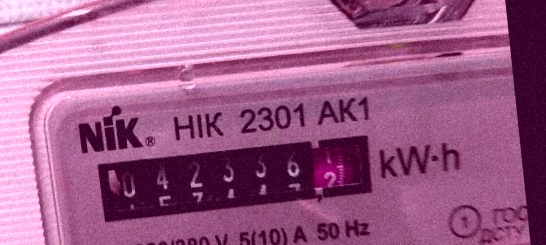0: (118, 169, 137, 199)
1: (319, 143, 334, 166)
2: (185, 158, 204, 189), (320, 168, 338, 188)
3: (249, 148, 268, 180), (217, 154, 235, 183)
4: (151, 161, 171, 191)
6: (283, 147, 303, 178)
screen: (84, 121, 387, 232)
